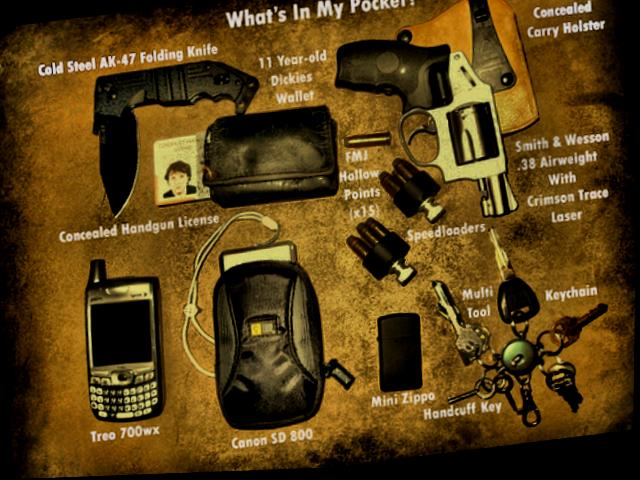pistol: (332, 21, 519, 239)
